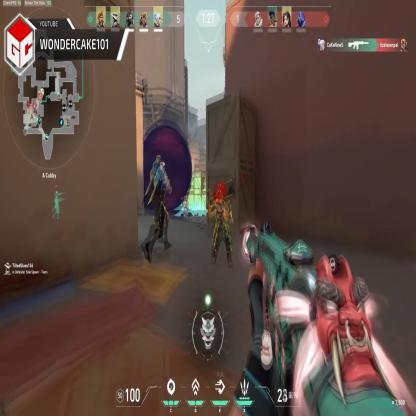enemy: (150, 160, 172, 250), (182, 194, 191, 218)
enemy_head: (160, 162, 166, 172), (185, 194, 188, 202)
